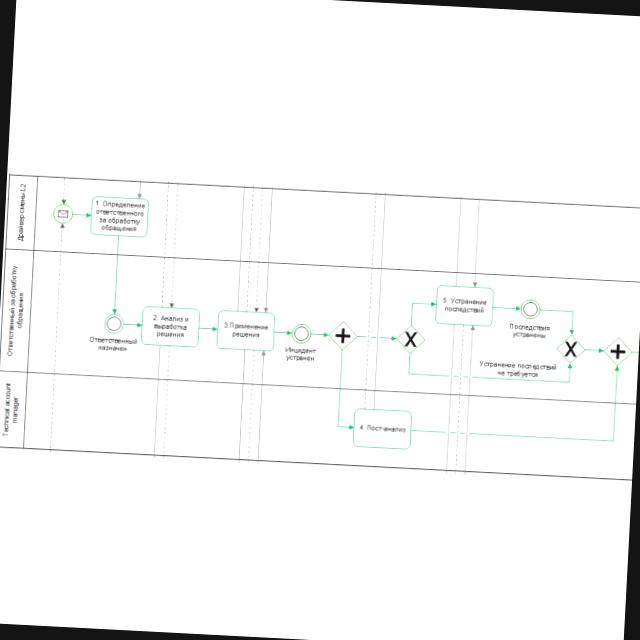arrow: (410, 355, 622, 444), (402, 352, 574, 384), (47, 225, 68, 449), (460, 324, 478, 470), (330, 348, 360, 433), (166, 181, 182, 308), (252, 188, 268, 312), (262, 188, 277, 312), (252, 350, 268, 462), (108, 238, 124, 317), (469, 197, 483, 287), (540, 306, 578, 334), (407, 296, 436, 326), (358, 332, 398, 346), (494, 303, 522, 313), (200, 323, 220, 336), (62, 178, 72, 204), (126, 318, 142, 332), (585, 345, 607, 355), (135, 181, 145, 198)
circle: (104, 314, 124, 333), (521, 300, 540, 319), (54, 204, 73, 223), (292, 324, 310, 343)
diamond: (606, 338, 632, 365), (558, 336, 584, 362), (397, 326, 423, 352), (331, 323, 356, 348)
rectangle: (435, 285, 494, 326), (91, 197, 149, 237), (353, 409, 411, 449), (142, 307, 199, 346), (218, 311, 274, 350)
text_region: (2, 257, 30, 367), (476, 358, 562, 380), (0, 377, 23, 444), (8, 180, 30, 246), (84, 336, 140, 356), (506, 322, 551, 340), (280, 344, 320, 364)
